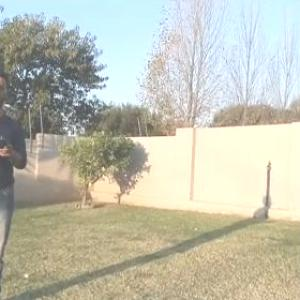follow: (0, 57, 31, 299)
